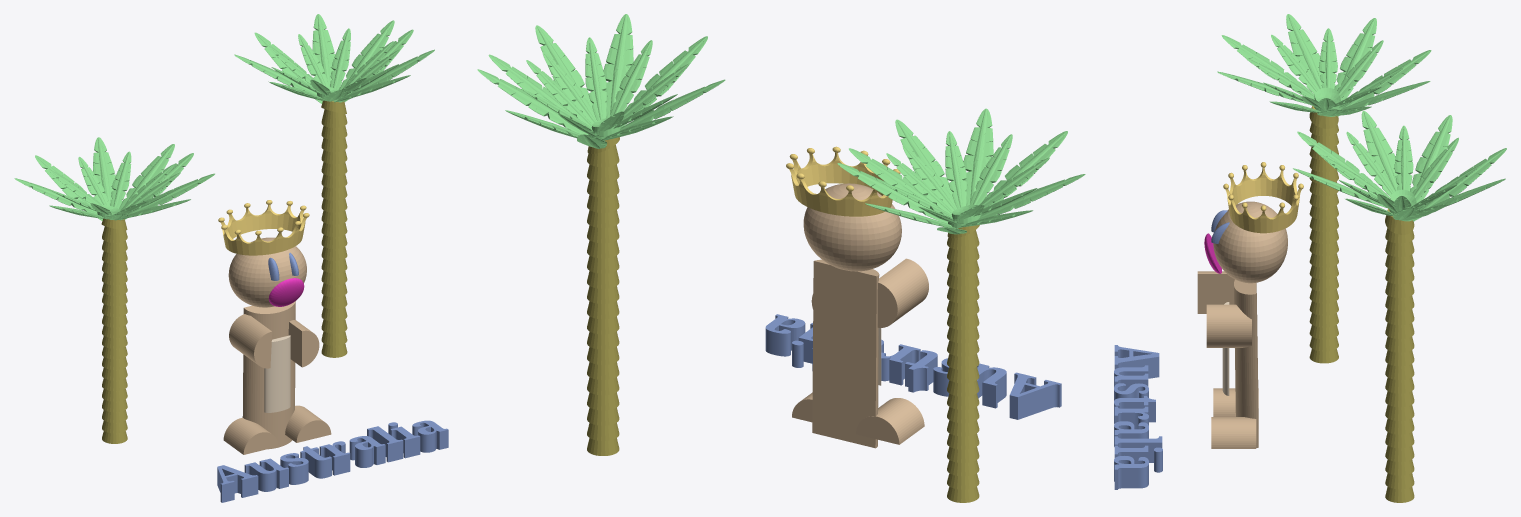
File: Australia.glb
The picture shows the model from 3 angles, left to right: view 1: azimuth 30°, elevation 25°; view 2: azimuth 150°, elevation 25°; view 3: azimuth 270°, elevation 25°; orthographic projection. The views are drawn at different scales.
Visible parts, largest first — view 1: Mesh_Mesh_head_geo.001_lambert2SG.001; view 2: Mesh_Mesh_head_geo.001_lambert2SG.001; view 3: Mesh_Mesh_head_geo.001_lambert2SG.001.
Part boxes in pixels (x1,y1,x2,y2): Mesh_Mesh_head_geo.001_lambert2SG.001: (14,14,448,502); Mesh_Mesh_head_geo.001_lambert2SG.001: (477,14,1085,502); Mesh_Mesh_head_geo.001_lambert2SG.001: (1114,14,1506,502).
Bounding box in the file's own units: 0.242 × 0.174 × 0.1738.
